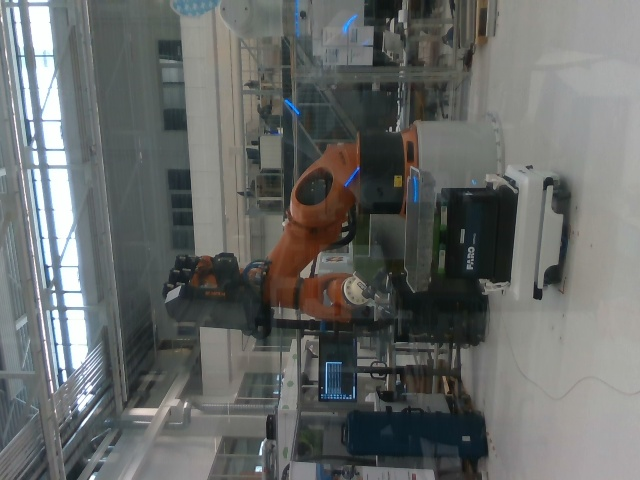Robot arm: (163, 121, 417, 340)
